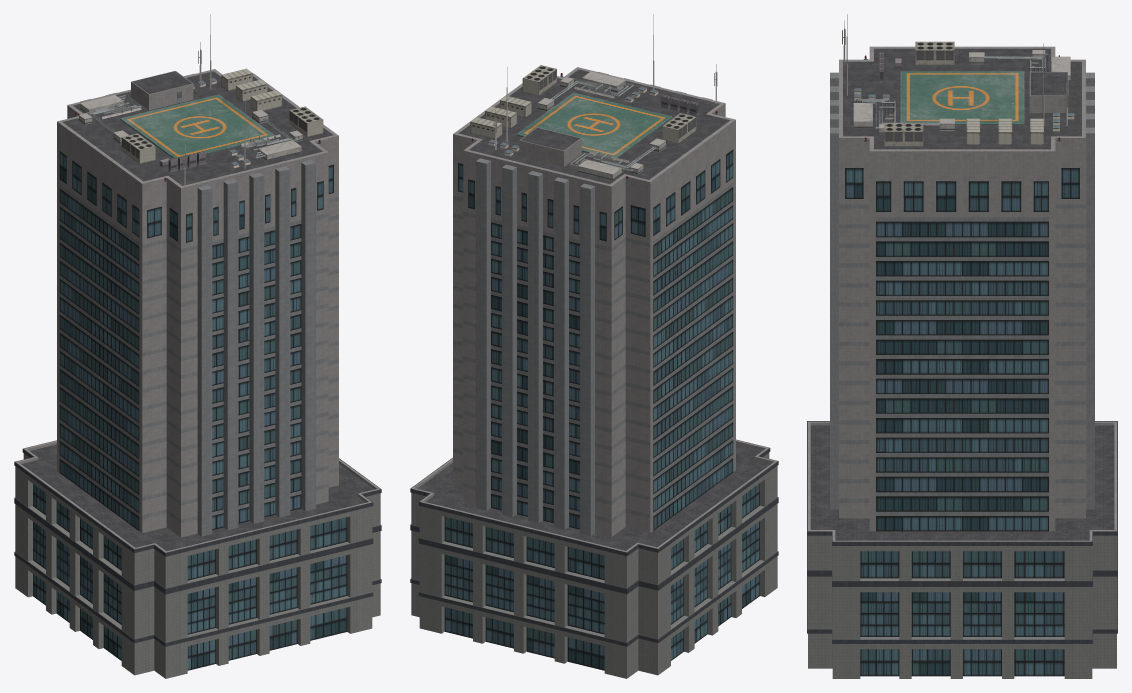
The model's file is building_Cb.FBX.
3 renders of one model, left to right at view 1: azimuth 30°, elevation 25°; view 2: azimuth 150°, elevation 25°; view 3: azimuth 270°, elevation 25°, orthographic. The views are drawn at different scales.
Visible parts, largest first — view 1: building_Cb; view 2: building_Cb; view 3: building_Cb.
Part boxes in pixels (<box>): building_Cb: <box>14,14,381,678</box>; building_Cb: <box>410,14,778,678</box>; building_Cb: <box>807,14,1117,678</box>.
Size of what is drawn, in the model's own units: 1979 by 1979 by 4190.
